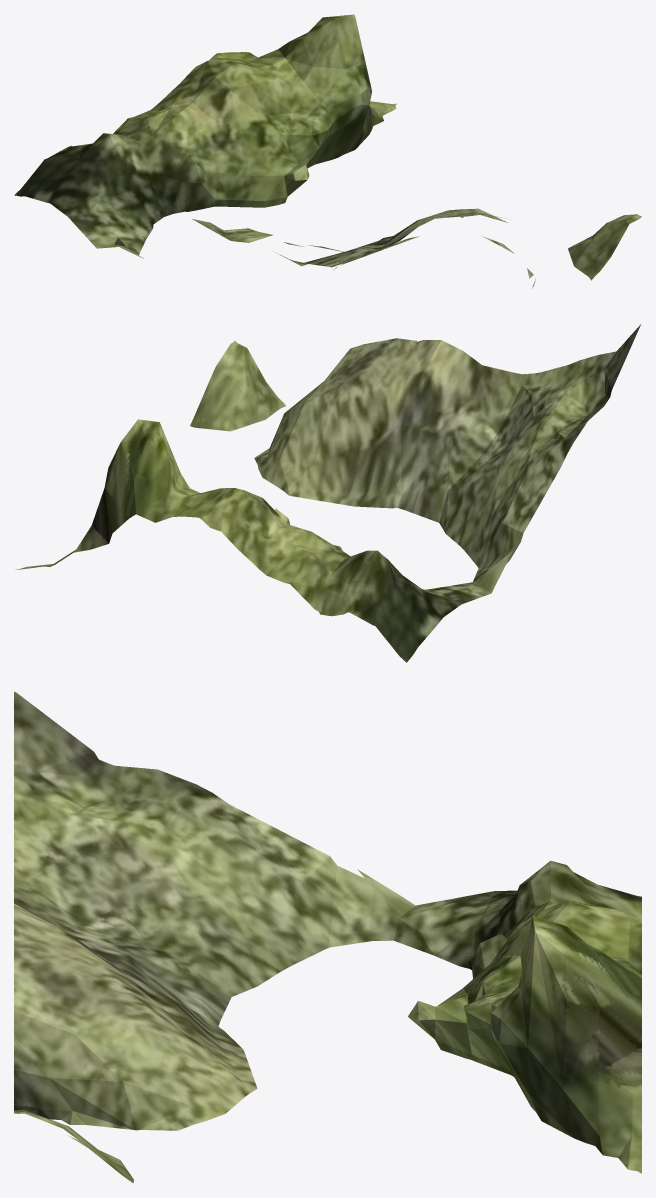
3 renders of one model, top to bottom at view 1: azimuth 30°, elevation 25°; view 2: azimuth 150°, elevation 25°; view 3: azimuth 270°, elevation 25°, orthographic. The views are drawn at different scales.
Size of the model in its own units: 2.95 by 1.17 by 2.95.
2 materials, 2 textured.
